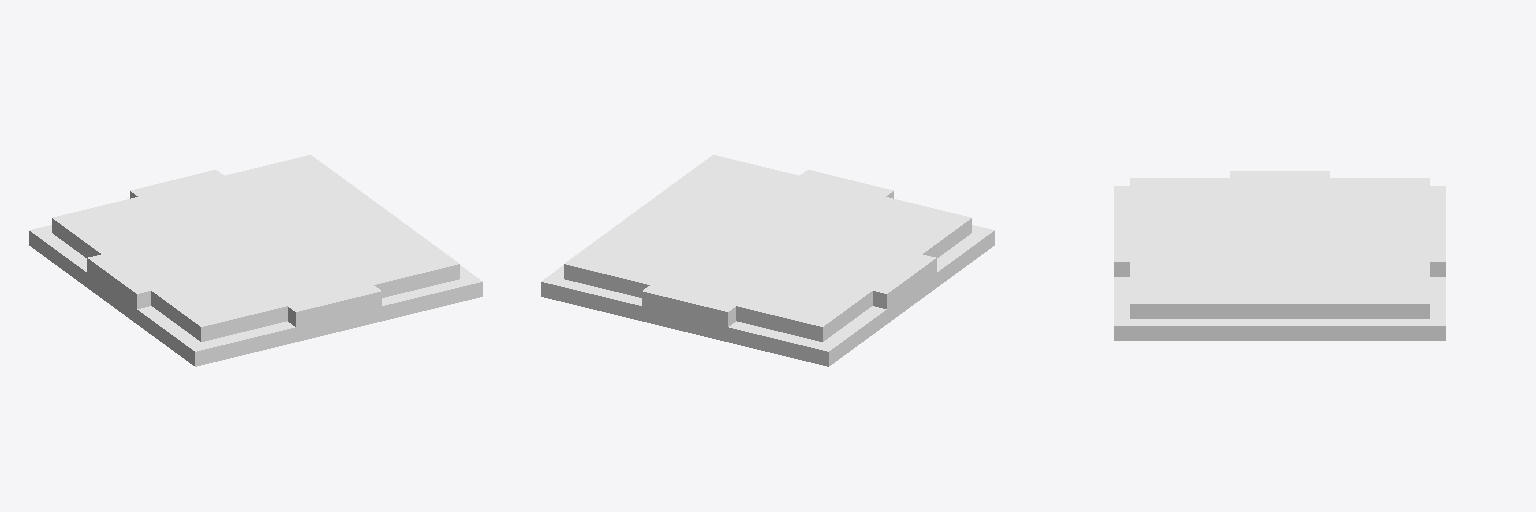
The model's file is threeway.obj.
The picture shows the model from 3 angles: view 1: azimuth 30°, elevation 25°; view 2: azimuth 150°, elevation 25°; view 3: azimuth 270°, elevation 25°; orthographic projection.
Size of the model in its own units: 20 by 2 by 20.